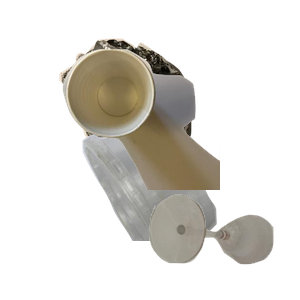glass: (147, 192, 300, 300)
metal: (57, 36, 241, 216)
plastic: (80, 120, 289, 300)
trash: (60, 47, 300, 227)
